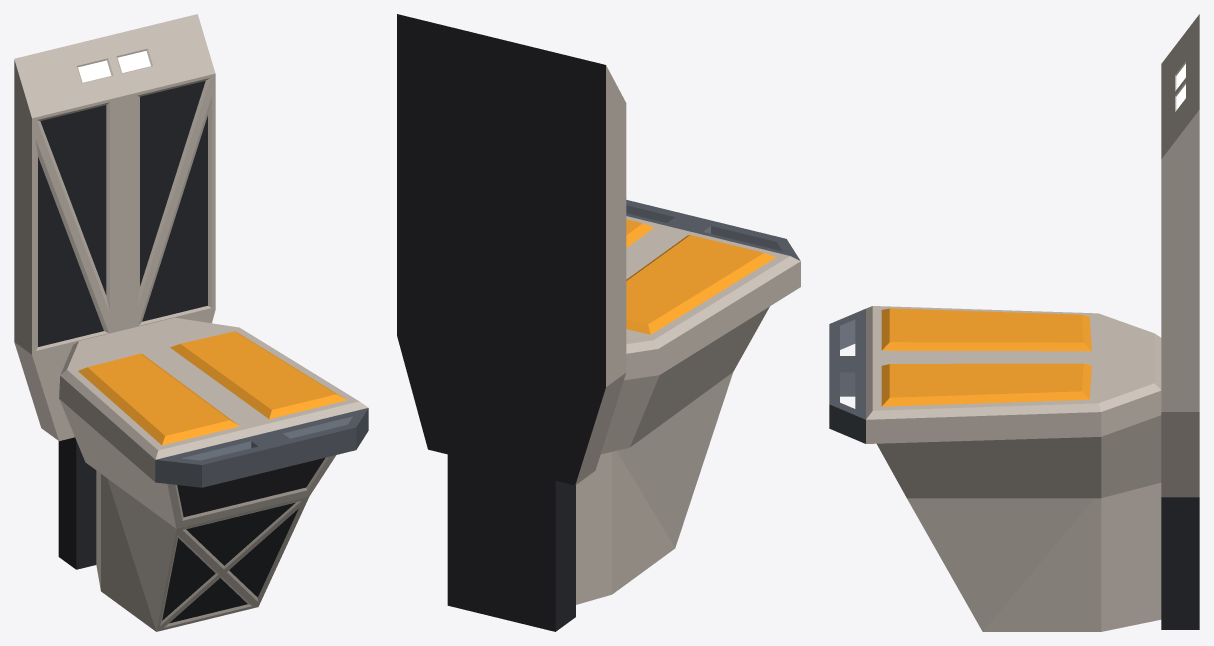
Rendered from SM_Toilet.glb.
The picture shows the model from 3 angles, left to right: view 1: azimuth 30°, elevation 25°; view 2: azimuth 150°, elevation 25°; view 3: azimuth 270°, elevation 25°; orthographic projection. The views are drawn at different scales.
Parts seen in each view (by area): view 1: SM_Toilet; view 2: SM_Toilet; view 3: SM_Toilet.
Boxes of the visible parts, x1,y1,x2,y2 form: SM_Toilet: (14, 14, 368, 631); SM_Toilet: (397, 14, 800, 631); SM_Toilet: (829, 14, 1199, 631).
Size of the model in its own units: 0.5204 by 1.19 by 0.7318.
Materials: 2 (1 with a texture image).
